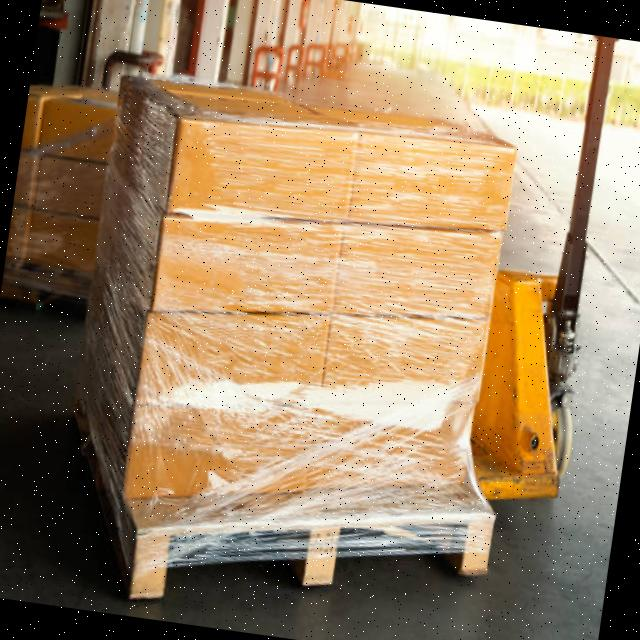Wooden-Pallets: (121, 510, 499, 600)
